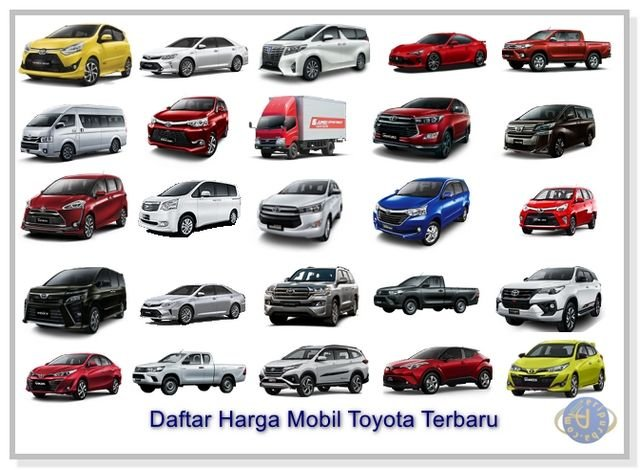mobil: (22, 262, 130, 341), (258, 21, 381, 89), (18, 99, 131, 169), (18, 172, 134, 240), (494, 262, 606, 332), (262, 259, 366, 333), (370, 174, 481, 243), (367, 92, 480, 158), (18, 20, 132, 84), (381, 340, 496, 401), (496, 24, 615, 81), (139, 270, 252, 330), (142, 96, 244, 162), (381, 24, 488, 85), (138, 179, 242, 241), (500, 337, 609, 396), (256, 174, 342, 247), (502, 97, 600, 159), (262, 343, 370, 399), (134, 28, 254, 78), (137, 349, 253, 400), (27, 351, 127, 406), (373, 272, 487, 319), (519, 184, 599, 245)
